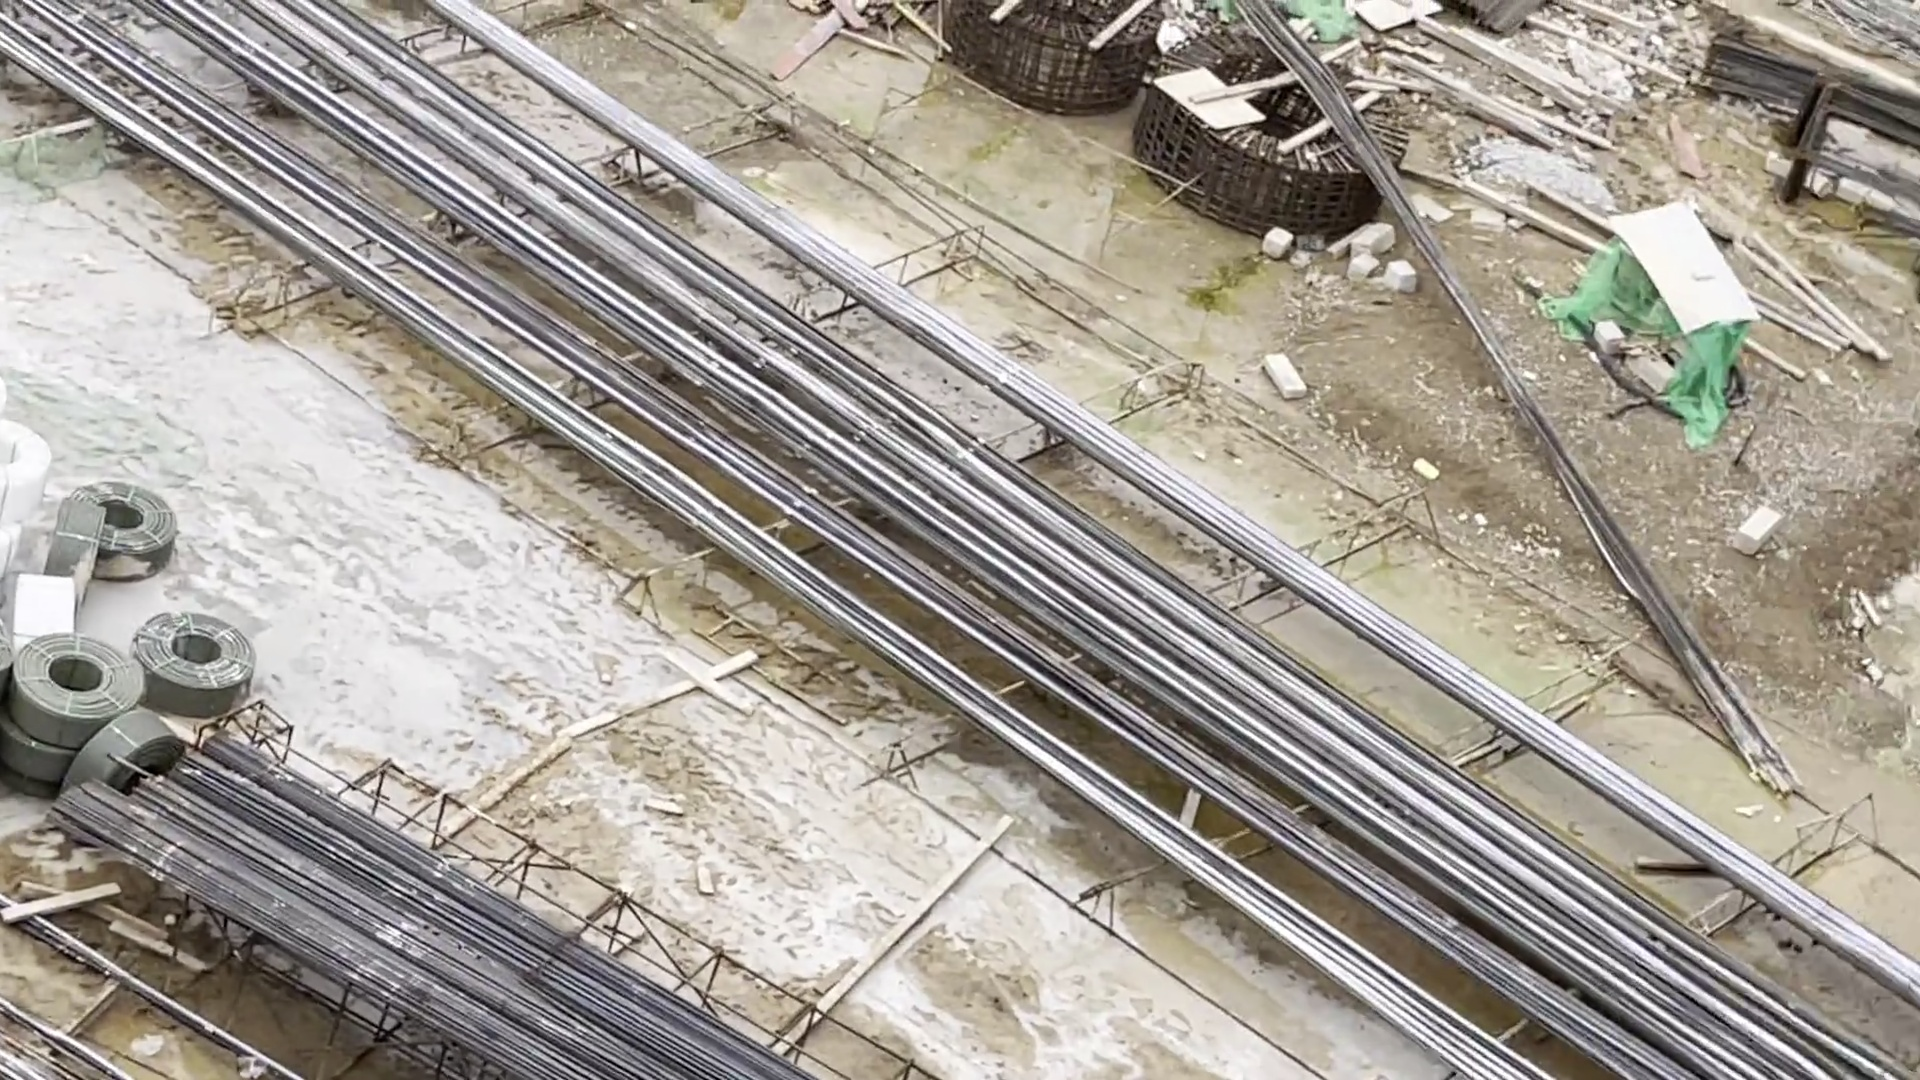rebar: (216, 1, 1018, 613), (1034, 480, 1830, 1073), (135, 752, 800, 1080)
